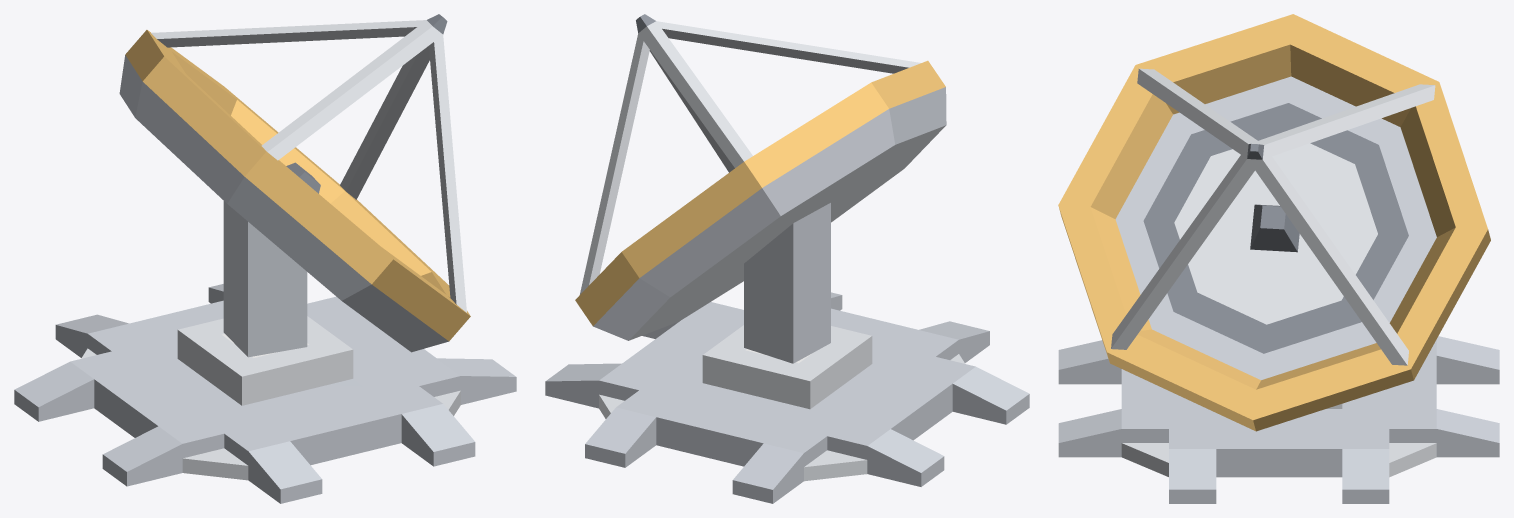
Rendered from SatelliteAnimation.fbx.
3 renders of one model, left to right at view 1: azimuth 30°, elevation 25°; view 2: azimuth 150°, elevation 25°; view 3: azimuth 270°, elevation 25°, orthographic. The views are drawn at different scales.
Parts seen in each view (by area): view 1: satelliteDish_detailed.001, satelliteDish_detailed; view 2: satelliteDish_detailed.001, satelliteDish_detailed; view 3: satelliteDish_detailed.001, satelliteDish_detailed.
Boxes of the visible parts, x1,y1,x2,y2 form: satelliteDish_detailed.001: (119, 14, 470, 357); satelliteDish_detailed: (14, 284, 516, 503); satelliteDish_detailed.001: (575, 14, 946, 363); satelliteDish_detailed: (545, 292, 1029, 503); satelliteDish_detailed.001: (1058, 14, 1490, 431); satelliteDish_detailed: (1058, 336, 1499, 503).
Size of the model in its own units: 70 by 61.65 by 70.08.
